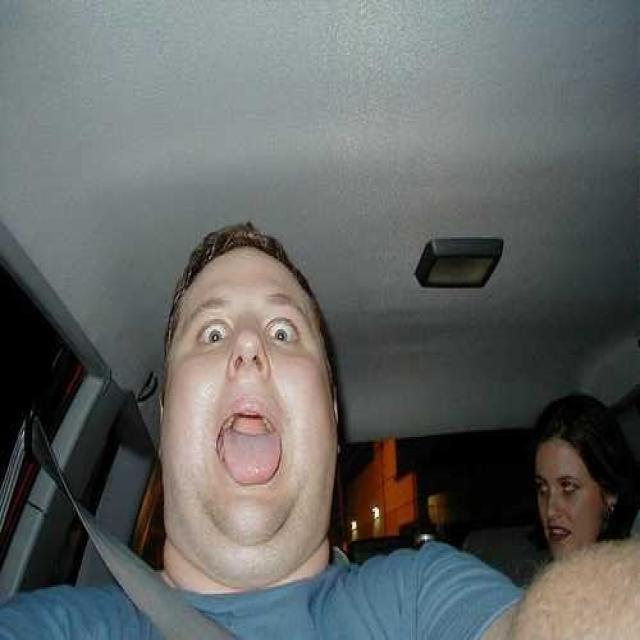seatbelt: (17, 388, 206, 622)
